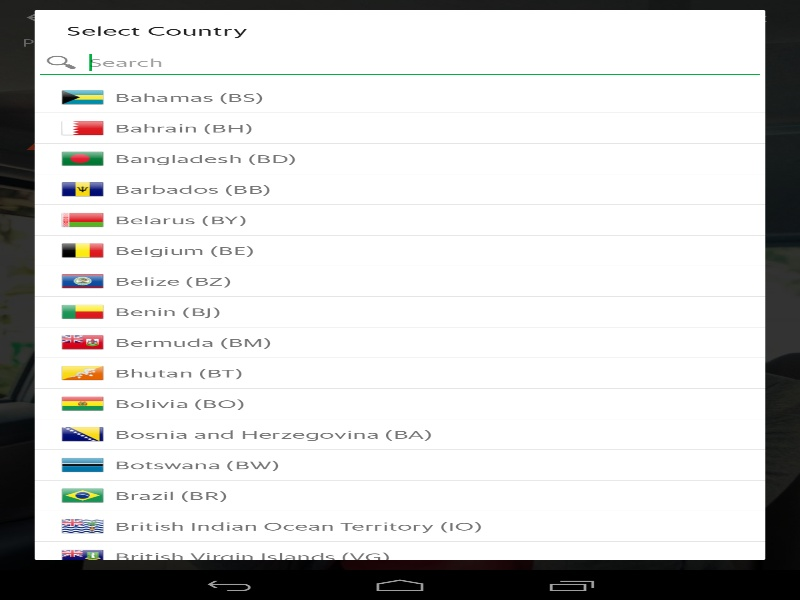Input: (34, 46, 765, 79)
